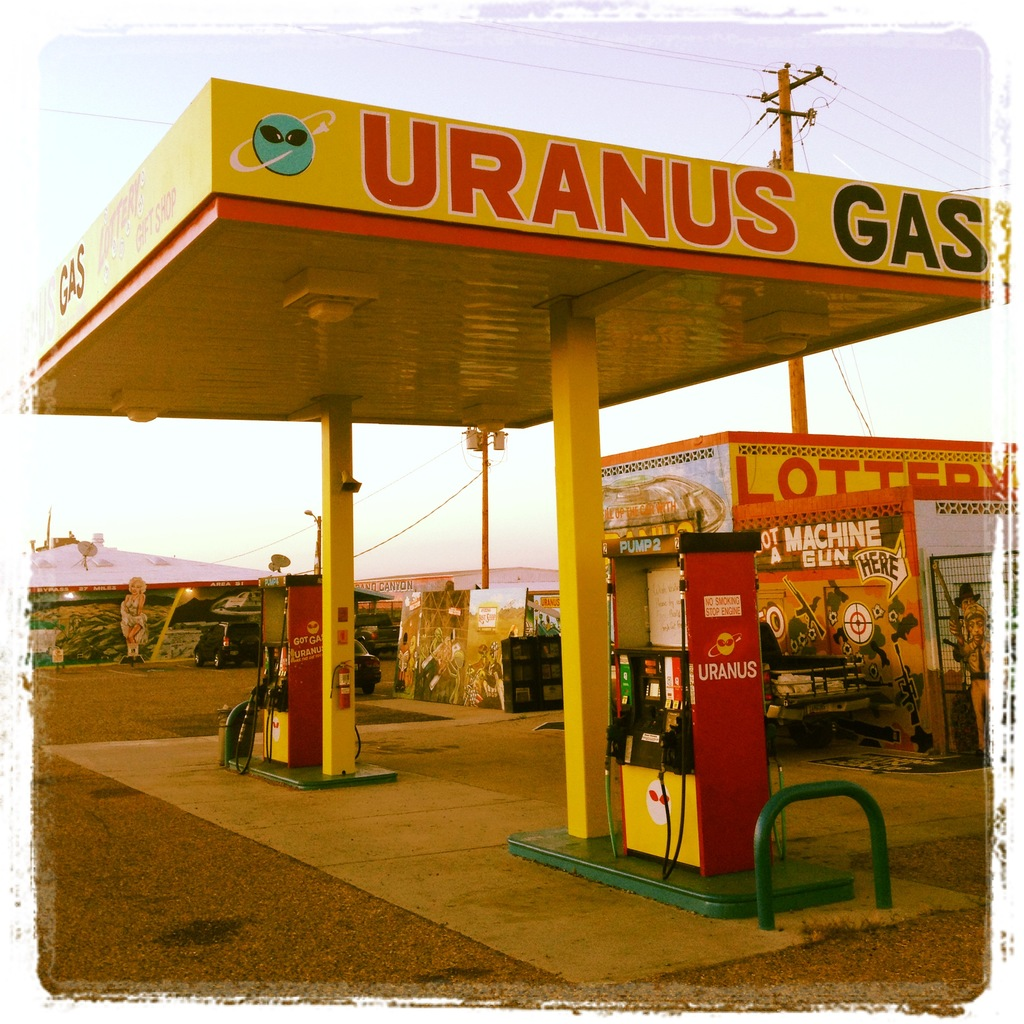person: (949, 593, 991, 760)
